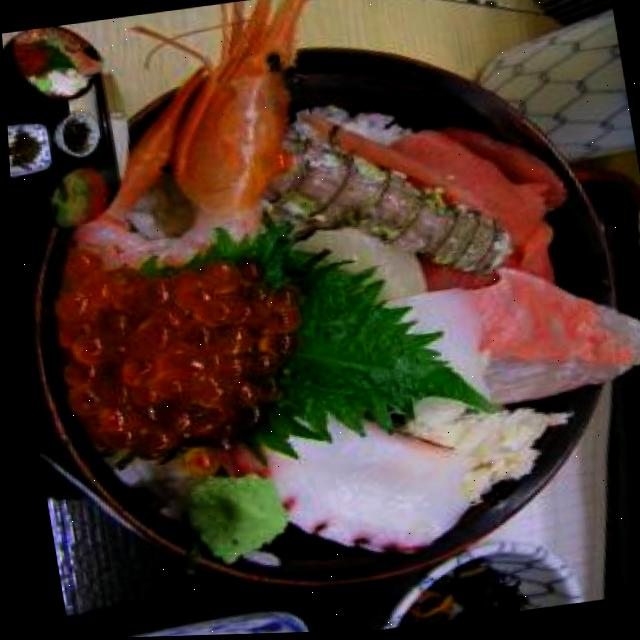刺身生食: (1, 18, 640, 627)
